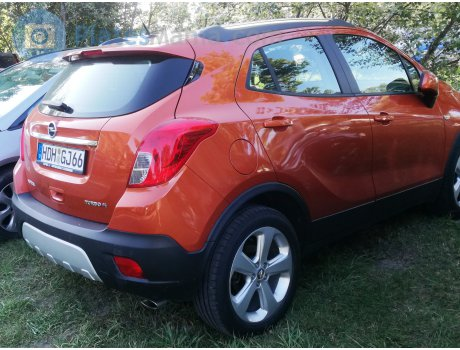License Plates: (40, 146, 79, 164)
